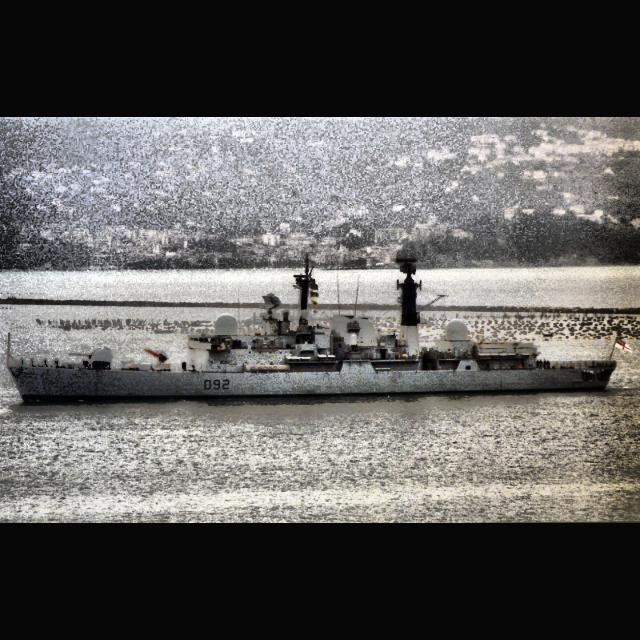combat_vessel: (6, 252, 618, 406)
